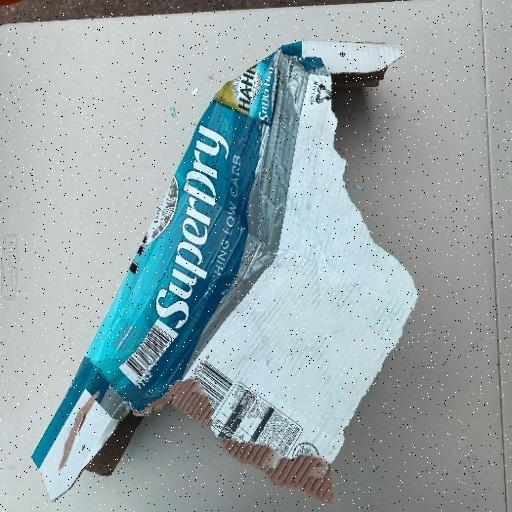Cardboard: (28, 38, 418, 502)
